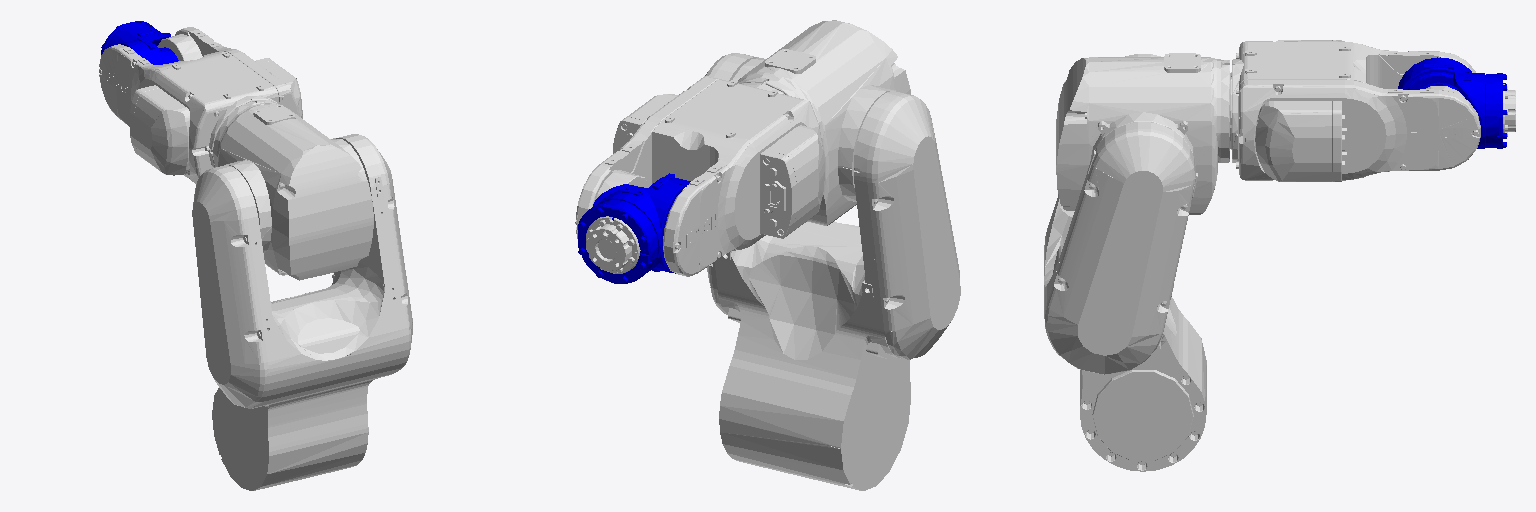
robot.urdf — X:
<?xml version="1.0"?>
<robot name="X">

  <material name="blue">
    <color rgba="0.0 0.0 1.0 1.0"/>
  </material>
  <material name="gray">
    <color rgba="0.9 0.9 0.9 1.0"/>
  </material>

  <link name="base_link">
    <visual>
      <origin xyz="0 0 0" rpy="1.5708 0 -1.5708"/>
      <geometry>
        <mesh filename="X_base.stl" scale="0.001 0.001 0.001"/>
      </geometry>
      <material name="gray"/>
    </visual>
  </link>

  <link name="link1">
    <visual>
      <origin xyz="0 0 0" rpy="1.5708 0 3.1416"/>
      <geometry>
        <mesh filename="X_arm1.stl" scale="0.001 0.001 0.001"/>
      </geometry>
      <material name="gray"/>
    </visual>
  </link>

  <joint name="joint1" type="revolute">
    <parent link="base_link"/>
    <child link="link1"/>
    <origin xyz="0 0 0.176" rpy="0 0 1.5708"/>
    <axis xyz="0 0 1"/>
    <limit lower="-2.35619449" upper="2.35619449" effort="1" velocity="1"/>
  </joint>

  <link name="link2">
    <visual>
      <origin xyz="0 0 0" rpy="1.5708 0 3.1416"/>
      <geometry>
        <mesh filename="X_arm2.stl" scale="0.001 0.001 0.001"/>
      </geometry>
      <material name="gray"/>
    </visual>
  </link>

  <joint name="joint2" type="revolute">
    <parent link="link1"/>
    <child link="link2"/>
    <origin xyz="0.06 0 0.144" rpy="0 0 0"/>
    <axis xyz="0 -1 0"/>
    <limit lower="-0.95993109" upper="1.16937060" effort="1" velocity="1"/>
  </joint>

  <link name="link3">
    <visual>
      <origin xyz="0 0 0" rpy="1.5708 0 3.1416"/>
      <geometry>
        <mesh filename="X_arm3.stl" scale="0.001 0.001 0.001"/>
      </geometry>
      <material name="gray"/>
    </visual>
  </link>

  <joint name="joint3" type="revolute">
    <parent link="link2"/>
    <child link="link3"/>
    <origin xyz="0 0 0.26" rpy="0 0 0"/>
    <axis xyz="0 -1 0"/>
    <limit lower="-0.87266463" upper="3.14159265" effort="1" velocity="1"/>
  </joint>

  <link name="link4">
    <visual>
      <origin xyz="0.202 0 0" rpy="1.5708 0 3.1416"/>
      <geometry>
        <mesh filename="X_arm4.stl" scale="0.001 0.001 0.001"/>
      </geometry>
      <material name="gray"/>
    </visual>
  </link>

  <joint name="joint4" type="revolute">
    <parent link="link3"/>
    <child link="link4"/>
    <origin xyz="0.078 0 0.03" rpy="0 0 0"/>
    <axis xyz="-1 0 0"/>
    <limit lower="-4.71238898" upper="4.71238898" effort="1" velocity="1"/>
  </joint>

  <link name="link5">
    <visual>
      <origin xyz="0 0 0" rpy="1.5708 0 3.1416"/>
      <geometry>
        <mesh filename="X_arm5.stl" scale="0.001 0.001 0.001"/>
      </geometry>
      <material name="blue"/>
    </visual>
  </link>

  <joint name="joint5" type="revolute">
    <parent link="link4"/>
    <child link="link5"/>
    <origin xyz="0.202 0 0" rpy="0 0 0"/>
    <axis xyz="0 -1 0"/>
    <limit lower="-2.35619449" upper="2.35619449" effort="1" velocity="1"/>
  </joint>

  <link name="link6">
    <visual>
      <origin xyz="0 0 0" rpy="0 3.1416 -1.5708"/>
      <geometry>
        <mesh filename="X_arm6.stl" scale="0.001 0.001 0.001"/>
      </geometry>
      <material name="gray"/>
    </visual>
  </link>

  <joint name="joint6" type="revolute">
    <parent link="link5"/>
    <child link="link6"/>
    <origin xyz="0.0575 0 0" rpy="0 0 0"/>
    <axis xyz="-1 0 0"/>
    <limit lower="-9.42477796" upper="9.42477796" effort="1" velocity="1"/>
  </joint>

  <link name="tool0"/>

  <joint name="joint_end" type="fixed">
    <parent link="link6"/>
    <child link="tool0"/>
    <origin xyz="0.015 0 0" rpy="3.1416 -1.5708 0"/>
  </joint>

</robot>

--- Render facts (derived) ---
Views: 3 orthographic renders of the robot side by side, from view 1: azimuth 30°, elevation 25°; view 2: azimuth 150°, elevation 25°; view 3: azimuth 270°, elevation 25°.
Robot: X — 8 links, 7 joints (6 revolute, 1 fixed); root link base_link; default pose: every joint at zero.
Visible links, largest first — view 1: link2, link3, link4, link5; view 2: link2, link4, link3, link5, link6; view 3: link2, link4, link3, link5, link6.
Link boxes in pixels (bbox=[...]): link2: bbox=[192, 134, 412, 490]; link3: bbox=[213, 100, 373, 280]; link4: bbox=[99, 27, 302, 183]; link5: bbox=[101, 21, 178, 64]; link2: bbox=[705, 53, 960, 490]; link4: bbox=[575, 76, 824, 276]; link3: bbox=[732, 20, 910, 225]; link5: bbox=[578, 173, 690, 283]; link6: bbox=[586, 216, 640, 273]; link2: bbox=[1044, 54, 1206, 471]; link4: bbox=[1230, 40, 1480, 181]; link3: bbox=[1056, 53, 1229, 214]; link5: bbox=[1398, 57, 1506, 148]; link6: bbox=[1503, 84, 1515, 136].
Size in the robot's own frame: 0.22 by 0.4459 by 0.402 metres.
5 mesh visuals loaded from 7 distinct referenced files (5 binary STL); not drawn: 2 (reference not matched to a file when rendering).
